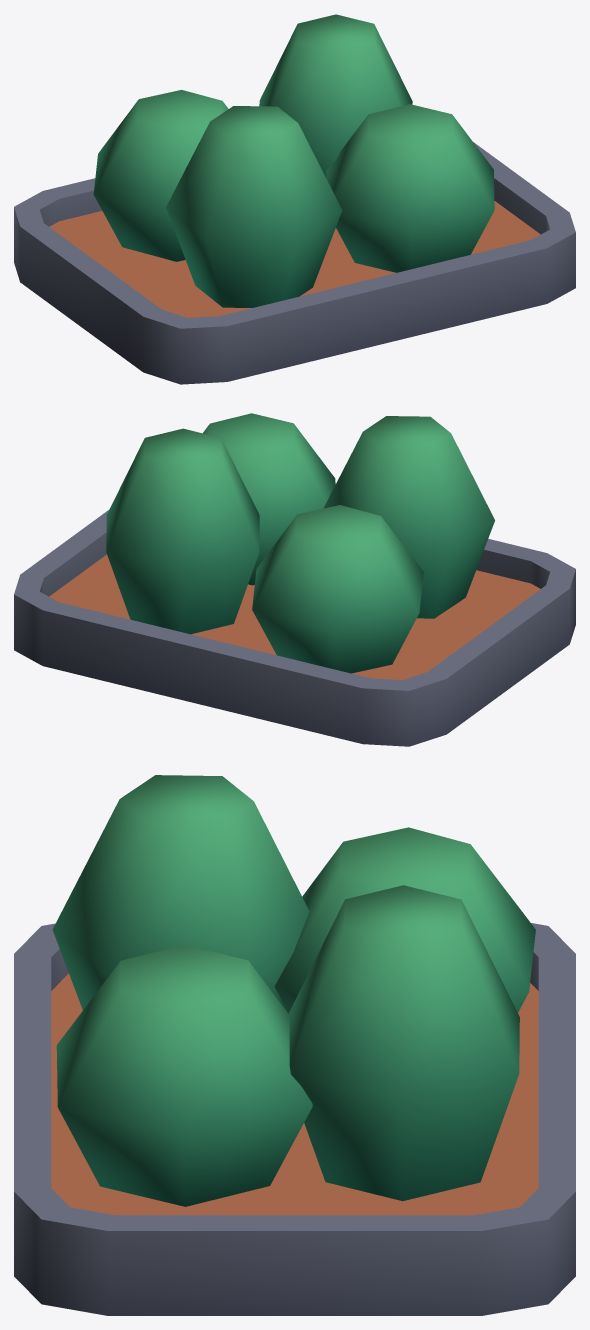
Rendered from planter.glb.
3 renders of one model, top to bottom at view 1: azimuth 30°, elevation 25°; view 2: azimuth 150°, elevation 25°; view 3: azimuth 270°, elevation 25°, orthographic. The views are drawn at different scales.
Parts seen in each view (by area): view 1: planter; view 2: planter; view 3: planter.
Boxes of the visible parts, x1,y1,x2,y2 form: planter: (14,14,575,384); planter: (14,413,575,746); planter: (14,775,575,1315).
Size of the model in its own units: 0.4 by 0.1771 by 0.3.
